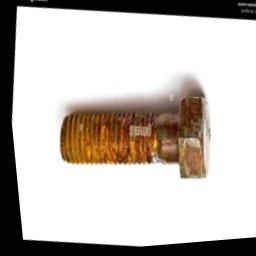Corroded-Bolt: (56, 98, 209, 182)
